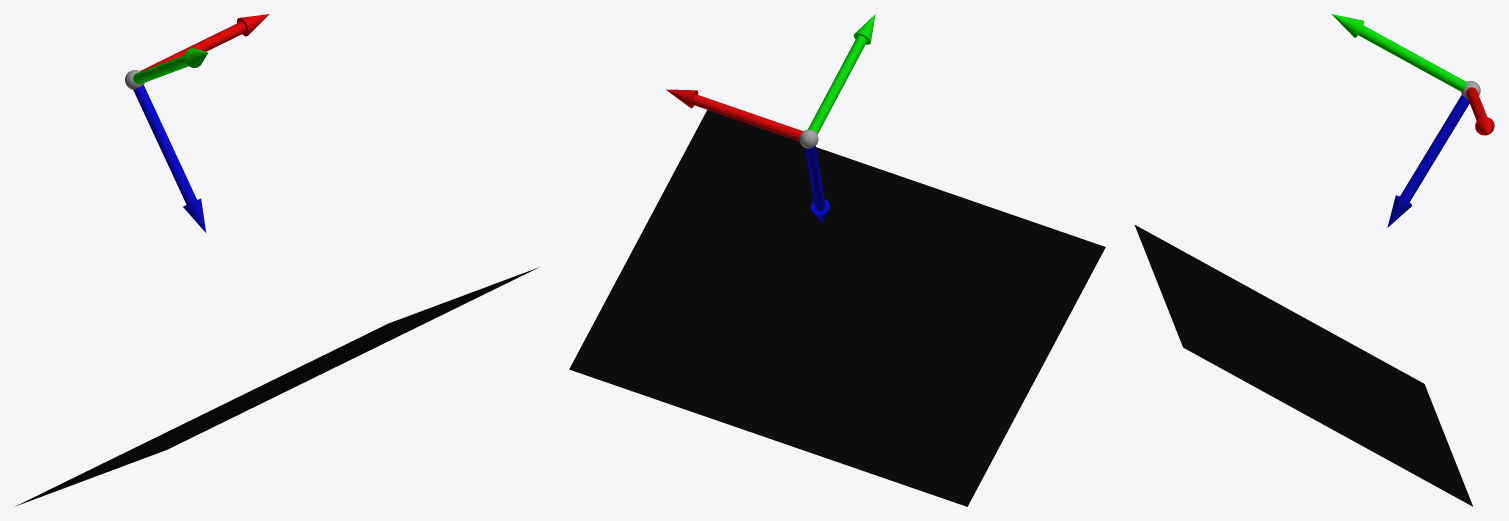
3 renders of one model, left to right at view 1: azimuth 30°, elevation 25°; view 2: azimuth 150°, elevation 25°; view 3: azimuth 270°, elevation 25°, orthographic. The views are drawn at different scales.
Size of the model in its own units: 0.3428 by 0.37 by 0.2752.
